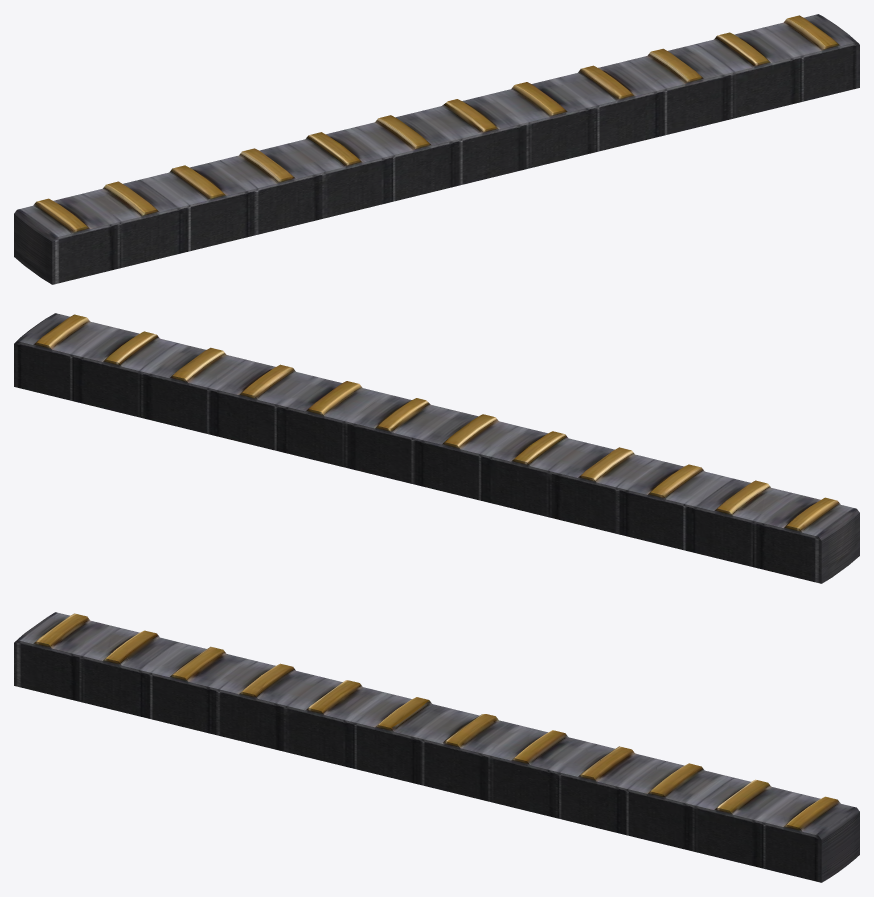
Rendered from header.glb.
3 views of the same model, one above another, from view 1: azimuth 30°, elevation 25°; view 2: azimuth 150°, elevation 25°; view 3: azimuth 330°, elevation 25° (orthographic).
Parts seen in each view (by area): view 1: header; view 2: header; view 3: header.
Part boxes in pixels (bbox=[...]): header: bbox=[14, 14, 859, 284]; header: bbox=[14, 313, 859, 583]; header: bbox=[14, 612, 859, 882].
Bounding box in the file's own units: 30.5 × 1.92 × 2.5.
1 material, 1 textured.
